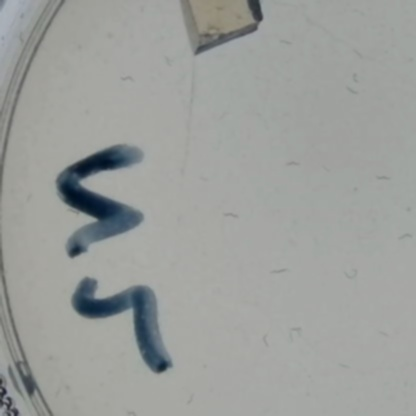worm: (286, 324, 305, 343), (267, 262, 293, 275), (344, 267, 364, 283), (395, 230, 416, 244), (258, 331, 274, 349), (373, 172, 393, 186), (183, 391, 198, 409), (336, 358, 355, 372), (118, 73, 138, 85), (160, 54, 175, 69), (21, 190, 37, 204), (374, 328, 393, 339), (216, 110, 232, 123), (278, 36, 298, 46), (343, 85, 361, 96), (353, 46, 366, 61), (351, 7, 368, 18), (349, 71, 363, 84), (49, 387, 63, 400), (222, 210, 241, 219), (287, 158, 302, 169), (123, 407, 141, 416), (196, 176, 215, 184), (321, 162, 332, 175)
